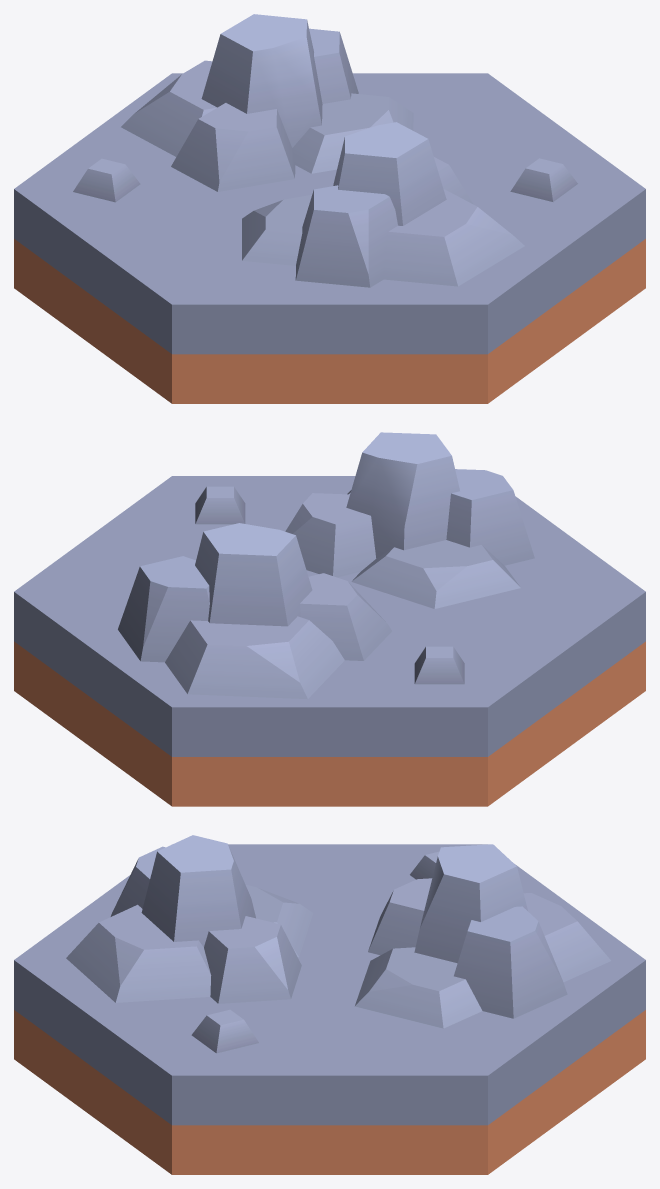
The model's file is kenney-hexagon-stone-rocks.glb.
3 renders of one model, top to bottom at view 1: azimuth 30°, elevation 25°; view 2: azimuth 150°, elevation 25°; view 3: azimuth 270°, elevation 25°, orthographic.
Parts seen in each view (by area): view 1: stone_rocks; view 2: stone_rocks; view 3: stone_rocks.
Boxes of the visible parts, x1=… form: stone_rocks: x1=14, y1=14, x2=645, y2=403; stone_rocks: x1=14, y1=432, x2=645, y2=806; stone_rocks: x1=14, y1=835, x2=645, y2=1174.
Size of the model in its own units: 1 by 0.4061 by 1.15.
Materials: 1 (1 with a texture image).
